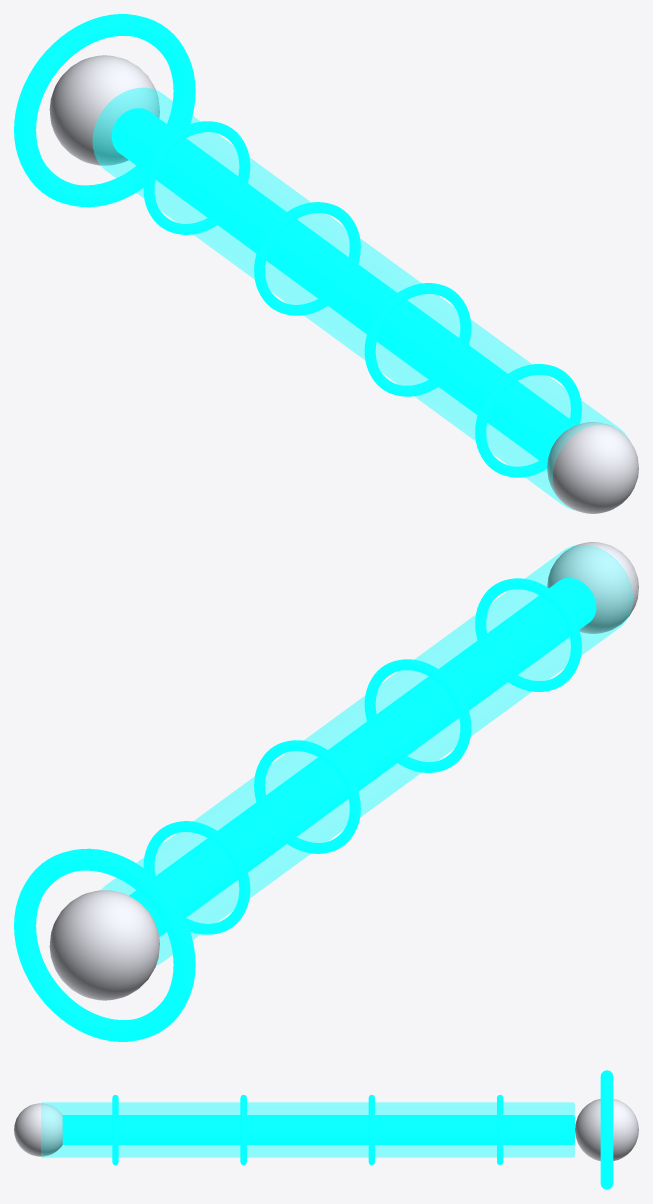
Rendered from OrbitalLauncher_Bolt.fbx.
3 views of the same model, one above another, from view 1: azimuth 30°, elevation 25°; view 2: azimuth 150°, elevation 25°; view 3: azimuth 270°, elevation 25° (orthographic). The views are drawn at different scales.
Parts seen in each view (by area): view 1: OrbitalLauncher_Bolt_Pro_Glass_cyan_0.25, OrbitalLauncher_Bolt_Pro_Glow_cyan_14, OrbitalLauncher_Bolt_Pro_Glow_cyan_10, OrbitalLauncher_Bolt_Pro_Glow_white_22, OrbitalLauncher_Bolt_Pro_Glow_white_18; view 2: OrbitalLauncher_Bolt_Pro_Glass_cyan_0.25, OrbitalLauncher_Bolt_Pro_Glow_cyan_14, OrbitalLauncher_Bolt_Pro_Glow_cyan_10, OrbitalLauncher_Bolt_Pro_Glow_white_22, OrbitalLauncher_Bolt_Pro_Glow_white_18; view 3: OrbitalLauncher_Bolt_Pro_Glass_cyan_0.25, OrbitalLauncher_Bolt_Pro_Glow_cyan_14, OrbitalLauncher_Bolt_Pro_Glow_white_22, OrbitalLauncher_Bolt_Pro_Glow_white_18, OrbitalLauncher_Bolt_Pro_Glow_cyan_10.
Part boxes in pixels (left/top/right/bottom): OrbitalLauncher_Bolt_Pro_Glass_cyan_0.25: left=92, top=88, right=627, bottom=509; OrbitalLauncher_Bolt_Pro_Glow_cyan_14: left=14, top=14, right=577, bottom=465; OrbitalLauncher_Bolt_Pro_Glow_cyan_10: left=143, top=121, right=581, bottom=477; OrbitalLauncher_Bolt_Pro_Glow_white_22: left=49, top=55, right=159, bottom=165; OrbitalLauncher_Bolt_Pro_Glow_white_18: left=547, top=422, right=638, bottom=513; OrbitalLauncher_Bolt_Pro_Glass_cyan_0.25: left=101, top=545, right=632, bottom=965; OrbitalLauncher_Bolt_Pro_Glow_cyan_14: left=14, top=578, right=596, bottom=1041; OrbitalLauncher_Bolt_Pro_Glow_cyan_10: left=143, top=578, right=581, bottom=934; OrbitalLauncher_Bolt_Pro_Glow_white_22: left=49, top=890, right=159, bottom=1000; OrbitalLauncher_Bolt_Pro_Glow_white_18: left=547, top=542, right=638, bottom=633; OrbitalLauncher_Bolt_Pro_Glass_cyan_0.25: left=41, top=1102, right=574, bottom=1157; OrbitalLauncher_Bolt_Pro_Glow_cyan_14: left=62, top=1070, right=613, bottom=1189; OrbitalLauncher_Bolt_Pro_Glow_white_22: left=575, top=1099, right=638, bottom=1160; OrbitalLauncher_Bolt_Pro_Glow_white_18: left=14, top=1103, right=62, bottom=1156; OrbitalLauncher_Bolt_Pro_Glow_cyan_10: left=112, top=1094, right=503, bottom=1165.
Bounding box in the file's own units: 0.112 × 0.112 × 0.585.
